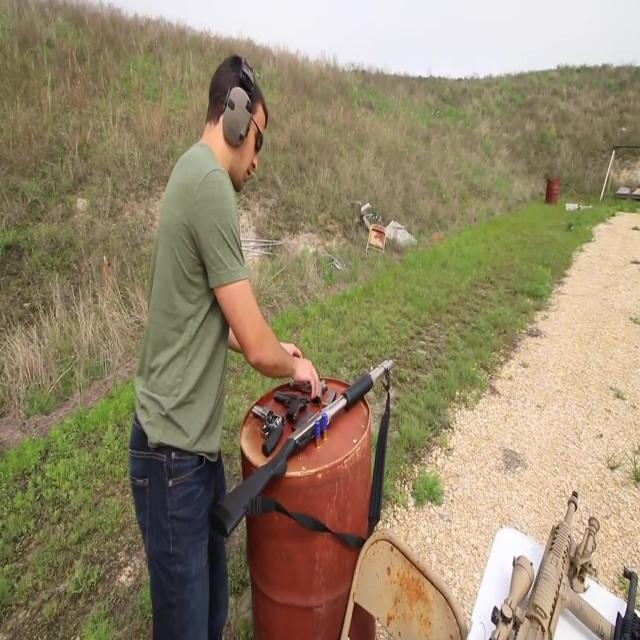Weapon: (201, 316, 405, 544), (490, 444, 636, 640)
